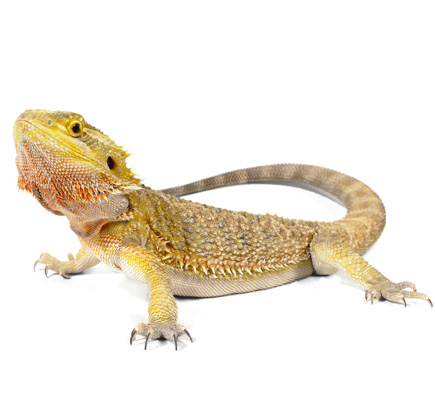bearded: (8, 105, 435, 351)
